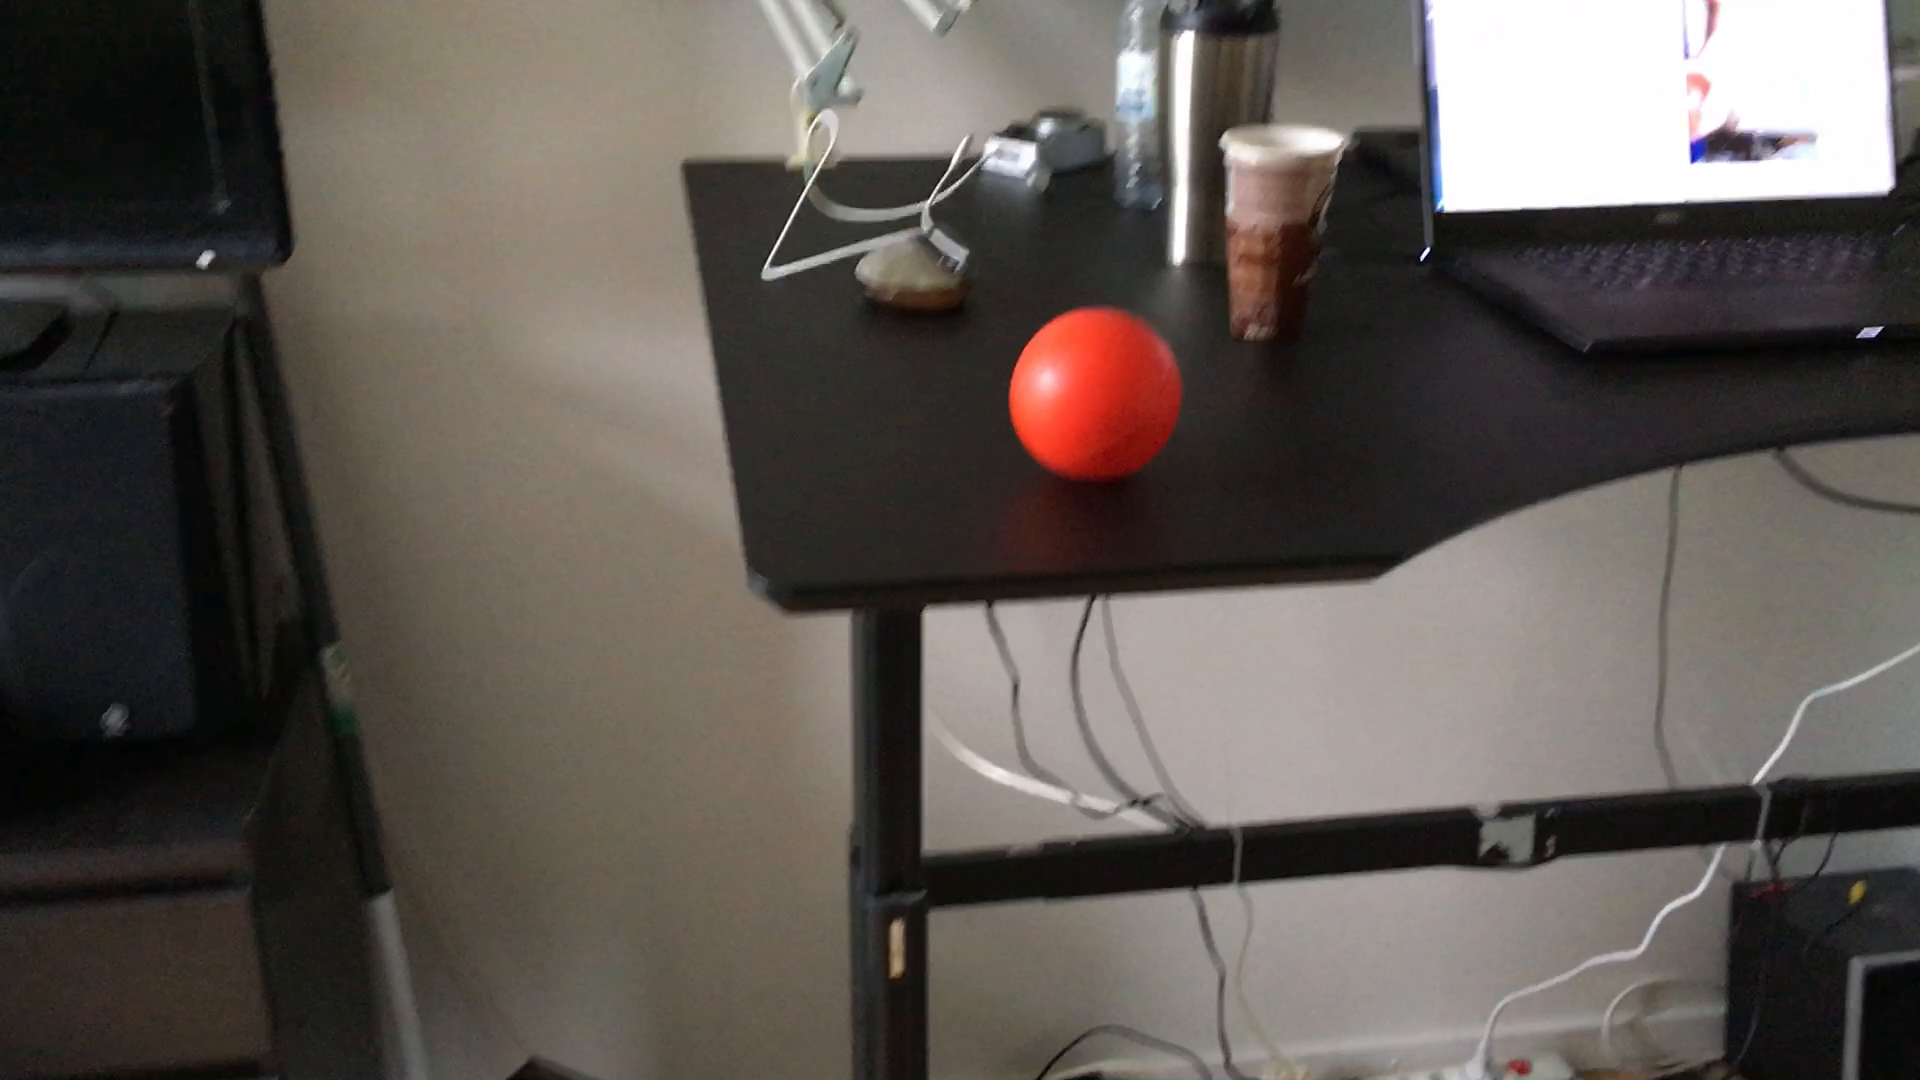Ball: (1004, 301, 1184, 488)
